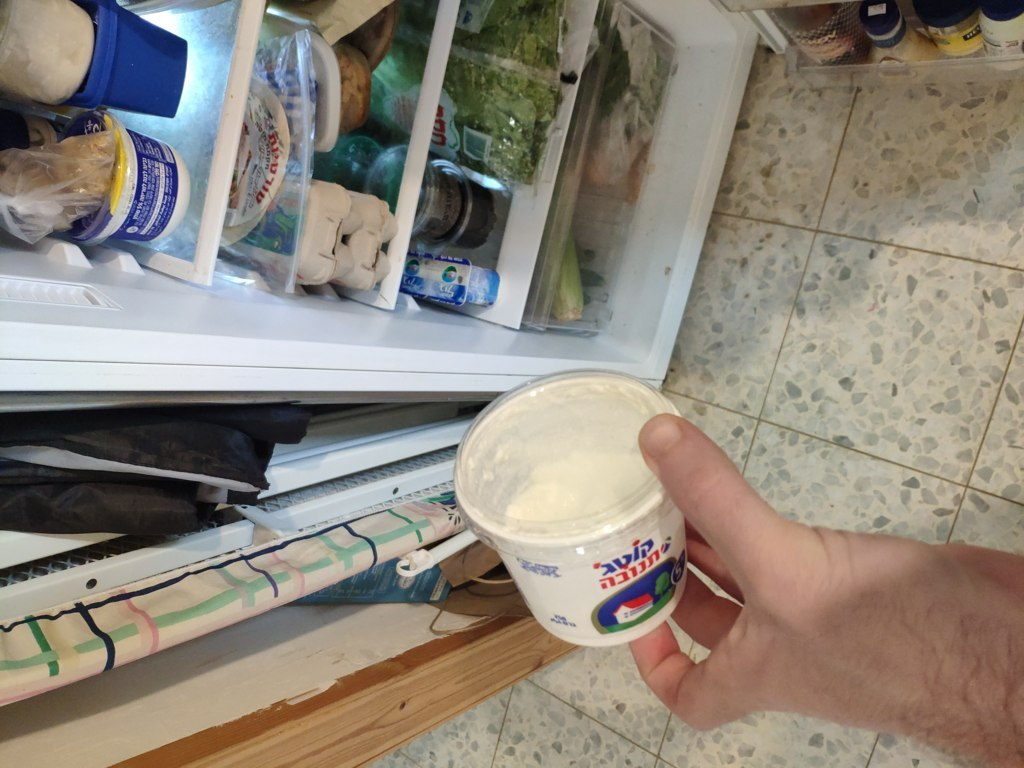Cotage: (473, 378, 695, 645)
